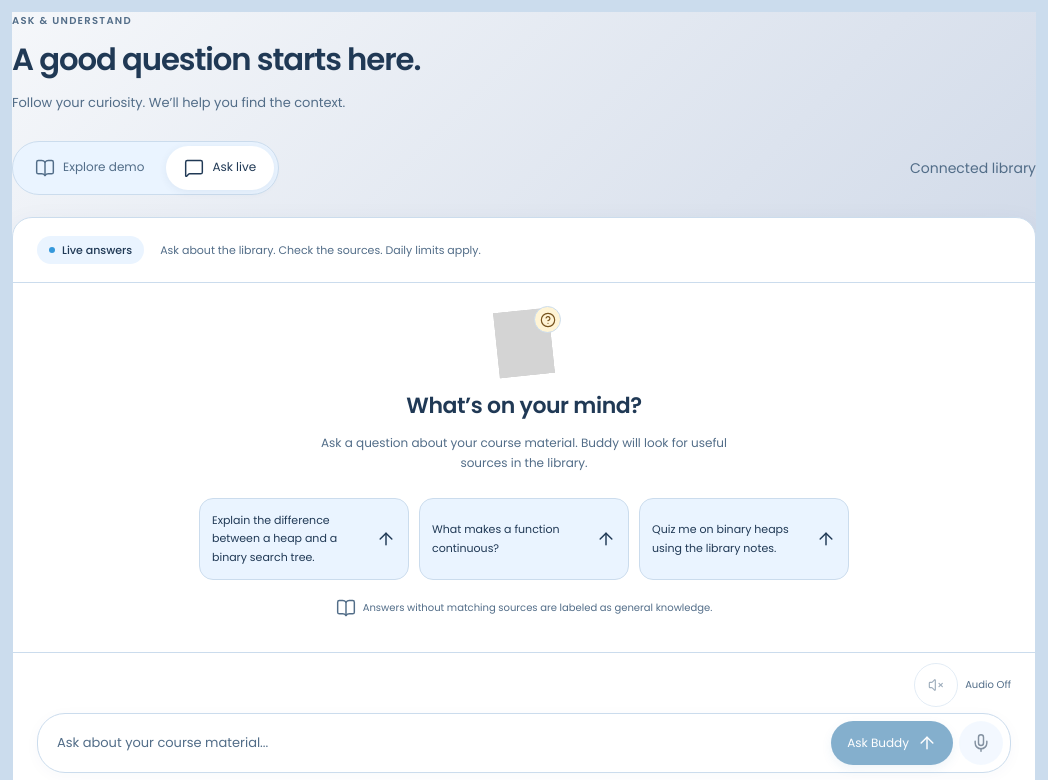
Scenario: a later no matches does not remove earlier sources
This screenshot has width=1048, height=780.
Type "Queue question" into the field named "Your question" at x=434, y=743, box [45,722,823,764]
Then press Enter
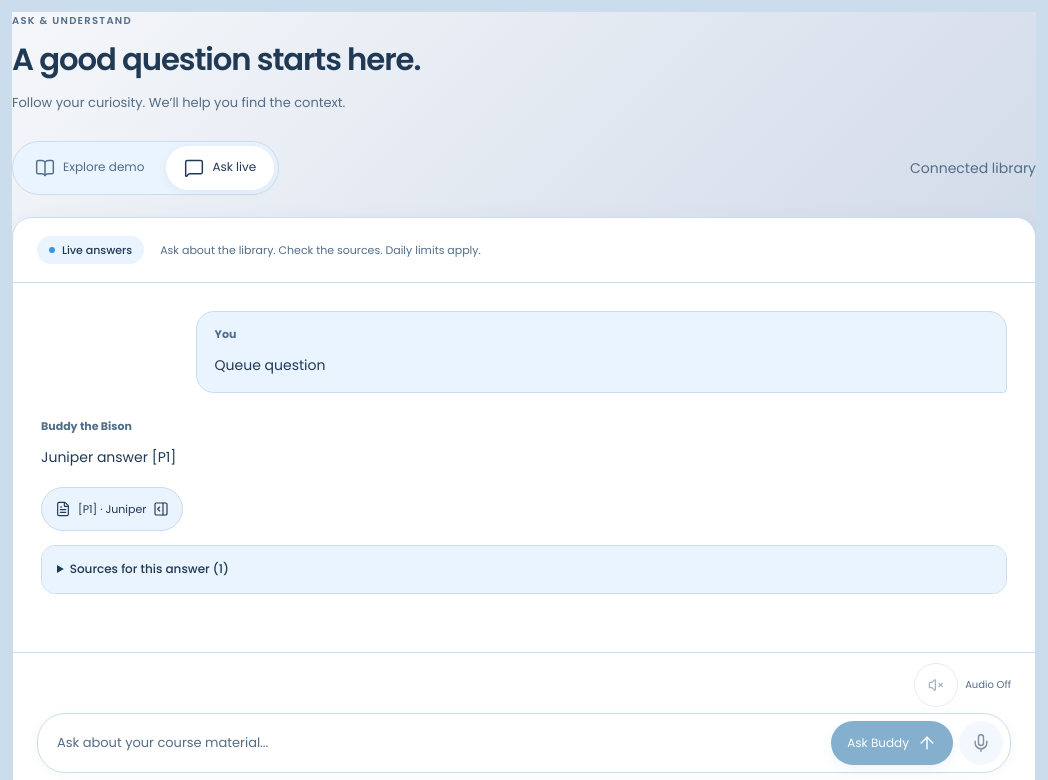
Click the heading "Sources for this answer (1)" at x=144, y=569, box [42,546,1006,593]
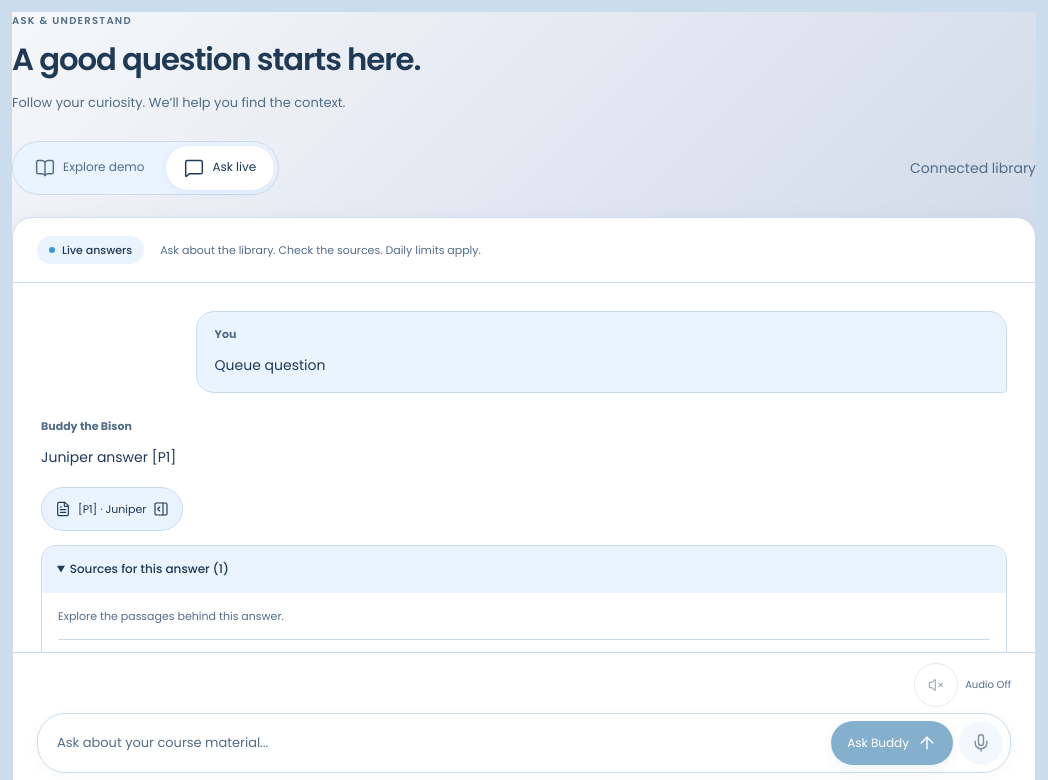
Type "Another question" into the field named "Your question" at x=434, y=743, box [45,722,823,764]
Then press Enter
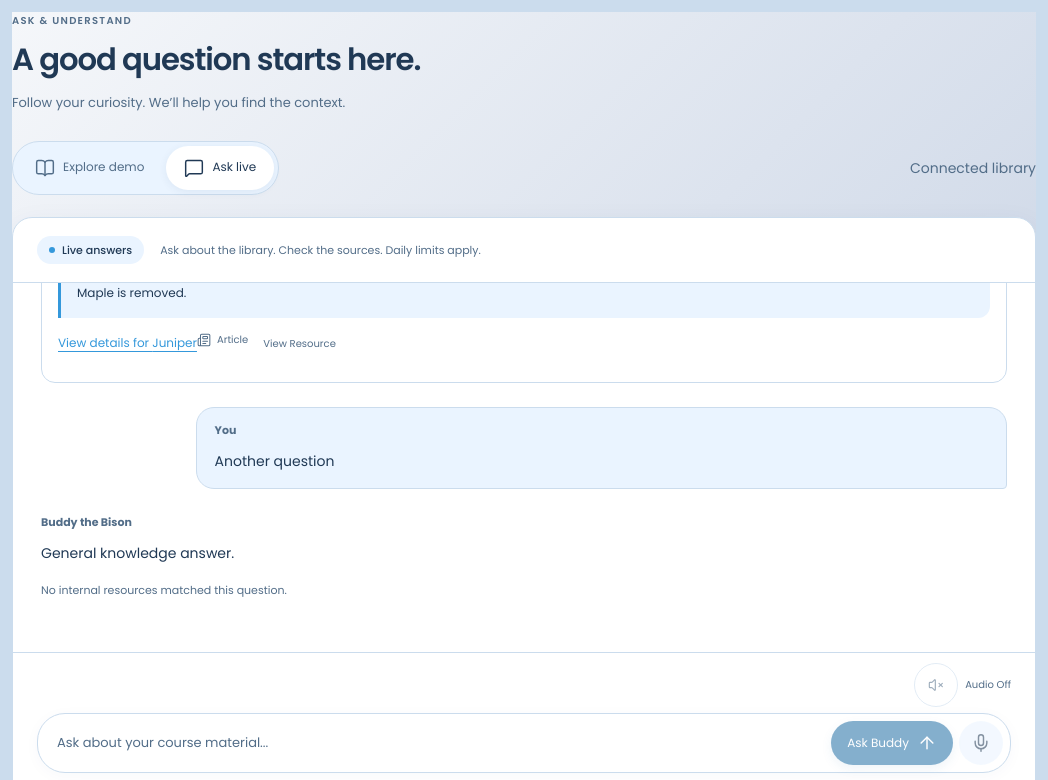
Expected: the text "Maple is removed." is shown, [58,283,990,318]
Expected: the text "No internal resources matched this question." is shown, [41,582,287,598]
